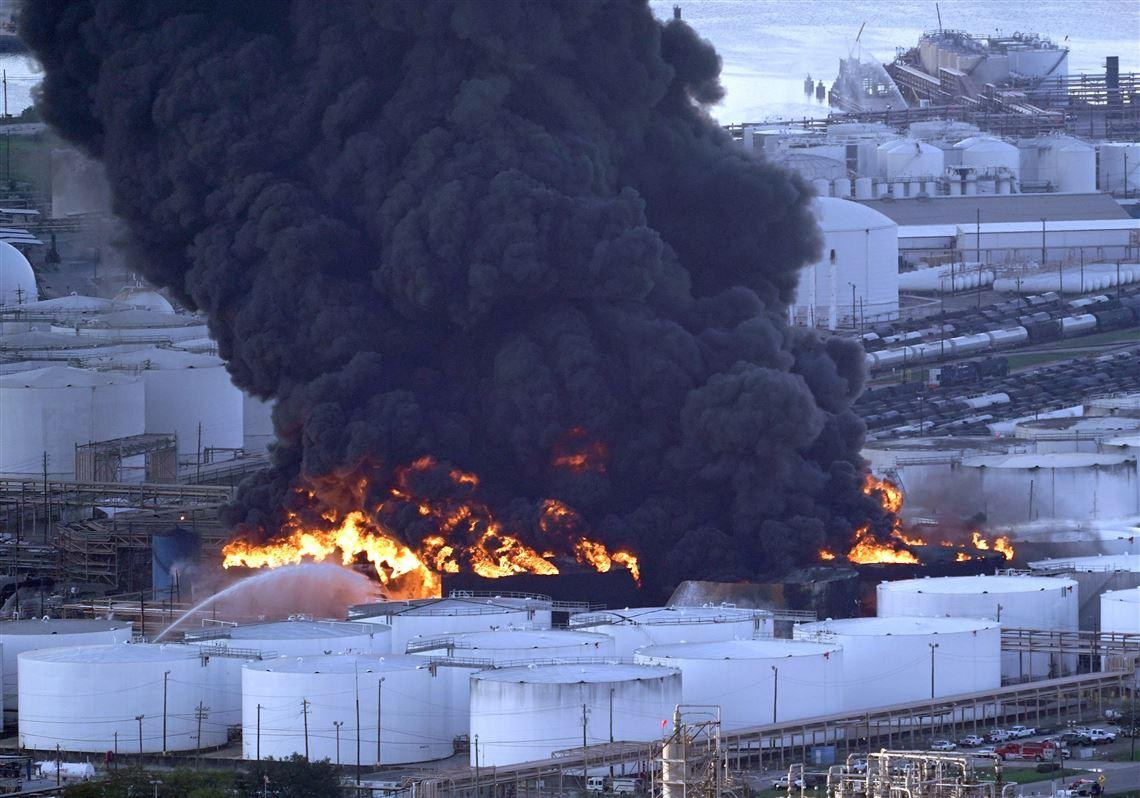Fire: (198, 486, 447, 600), (399, 457, 561, 587), (794, 461, 943, 577), (560, 502, 651, 585), (962, 518, 1019, 572)
